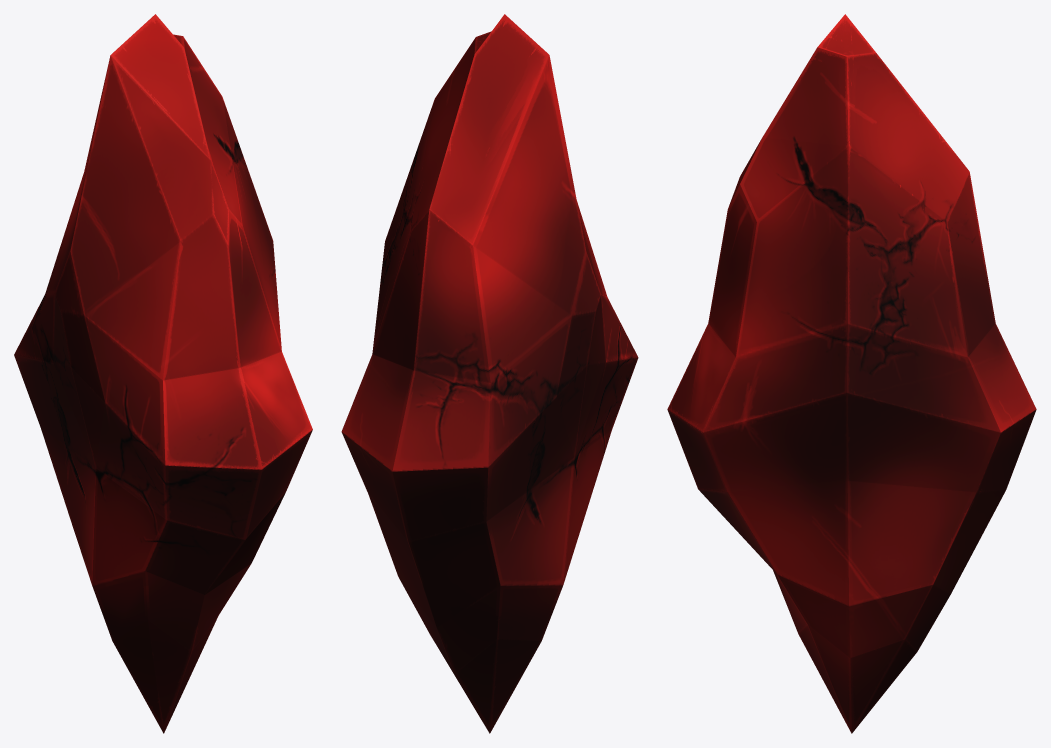
Rendered from Crystal_58.fbx.
The picture shows the model from 3 angles, left to right: view 1: azimuth 30°, elevation 25°; view 2: azimuth 150°, elevation 25°; view 3: azimuth 270°, elevation 25°; orthographic projection.
Parts seen in each view (by area): view 1: Crystal_58; view 2: Crystal_58; view 3: Crystal_58.
Part boxes in pixels (x1,y1,x2,y2): Crystal_58: (14,14,312,733); Crystal_58: (341,14,638,733); Crystal_58: (667,14,1036,733).
Bounding box in the file's own units: 29.77 × 97.17 × 45.52.
